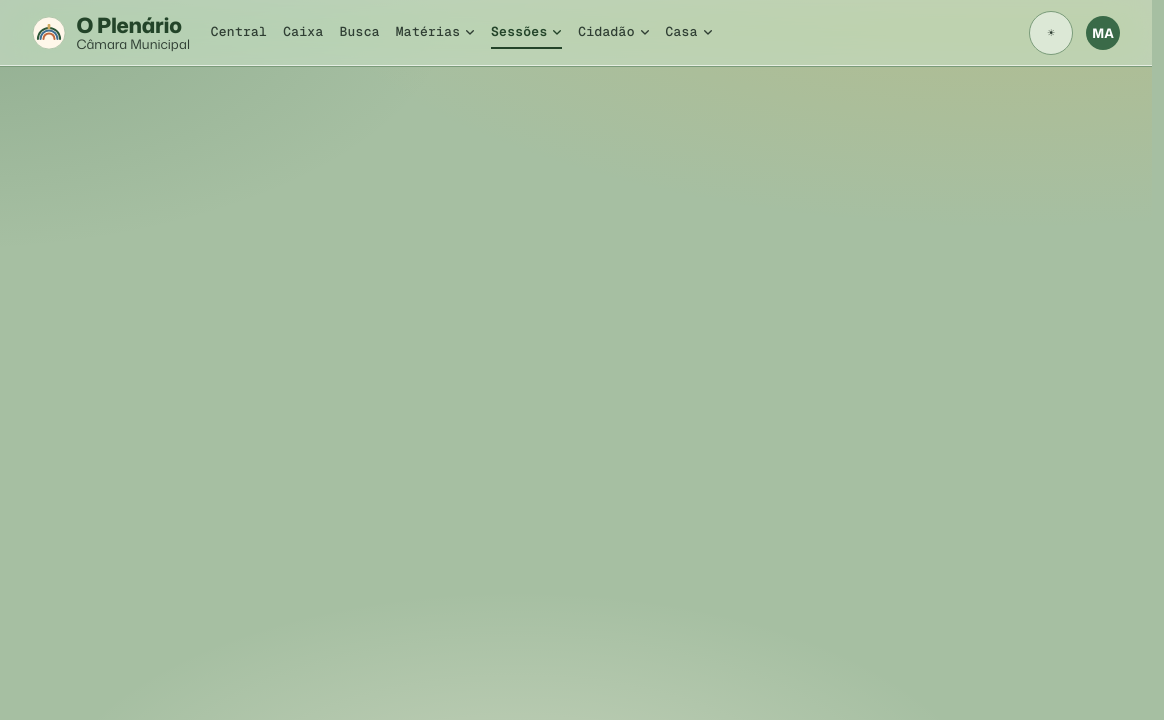
TopoInterno › mostra o rótulo da área e o nome+papel resolvidos do ator autenticado
Click the button "Sessões".
click(527, 33)  # box [491, 17, 562, 49]
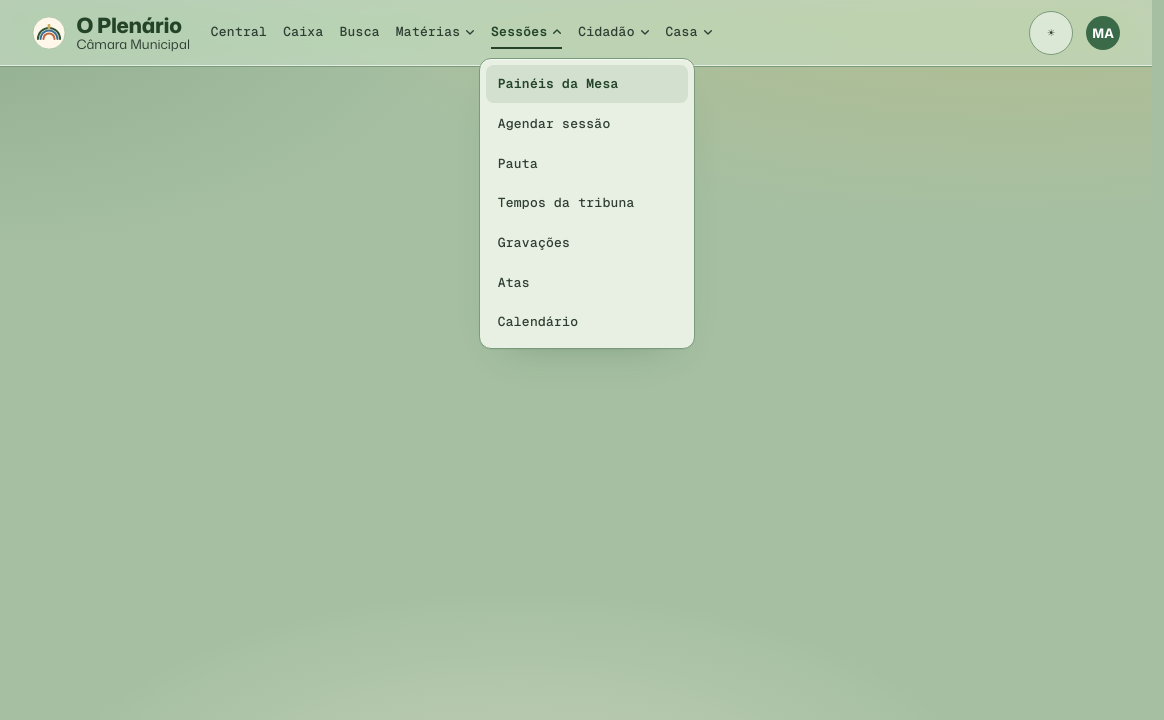
Check: the button "Sessões" is expanded, box [491, 17, 562, 49]
Click the button "Matérias".
click(435, 33)  # box [396, 17, 475, 49]
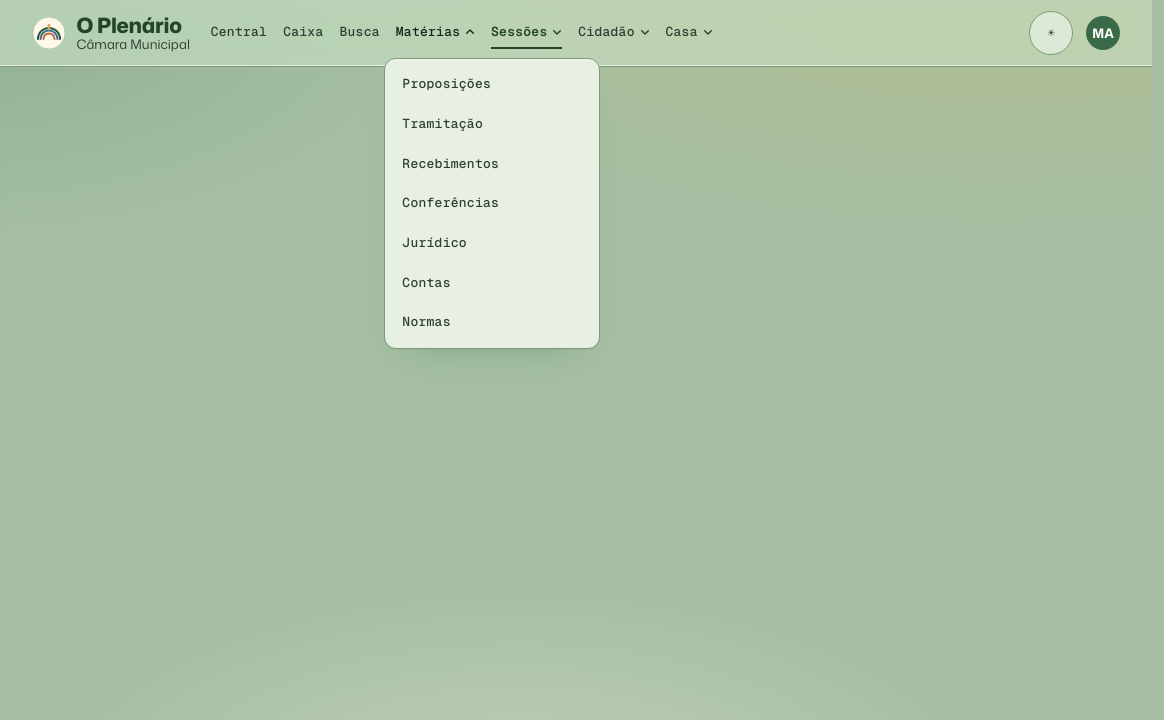
Check: the button "Sessões" is collapsed, box [491, 17, 562, 49]
